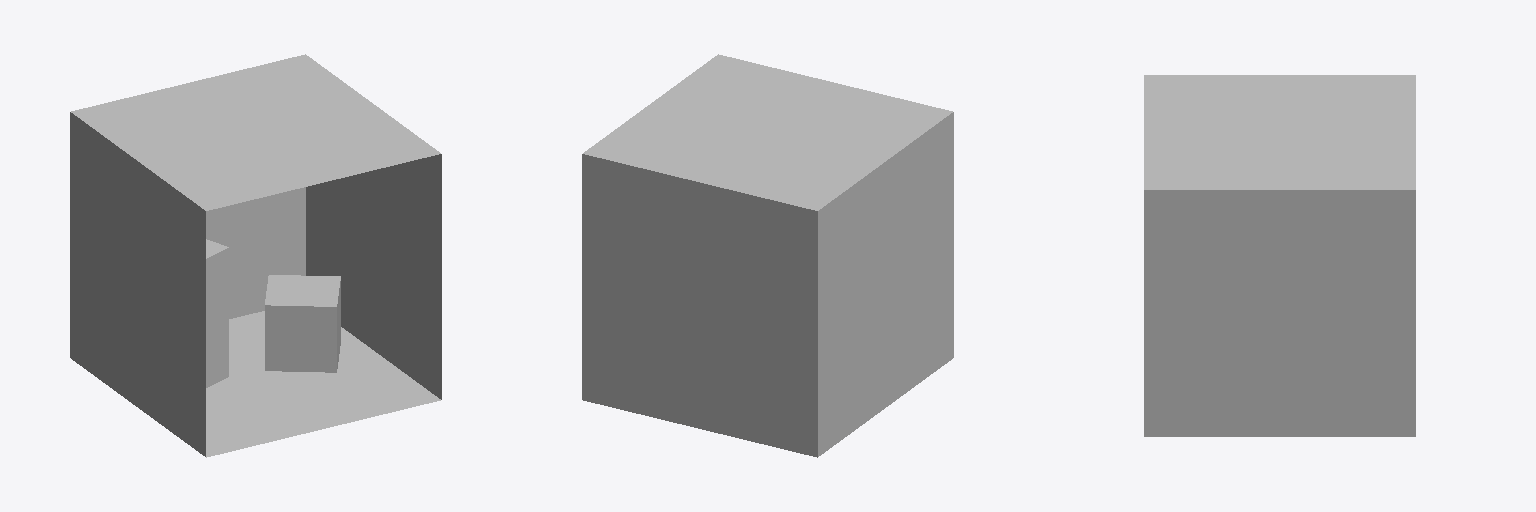
The model's file is shadowTest.obj.
3 views of the same model, side by side, from view 1: azimuth 30°, elevation 25°; view 2: azimuth 150°, elevation 25°; view 3: azimuth 270°, elevation 25° (orthographic).
Parts seen in each view (by area): view 1: Cube.001, Cube.002, Cube; view 2: Cube.001; view 3: Cube.001.
Part boxes in pixels (x1,y1,x2,y2): Cube.001: (70, 54, 441, 457); Cube.002: (265, 275, 340, 372); Cube: (206, 239, 228, 387); Cube.001: (582, 54, 953, 457); Cube.001: (1144, 75, 1415, 436).
Size of the model in its own units: 4 by 4 by 4.